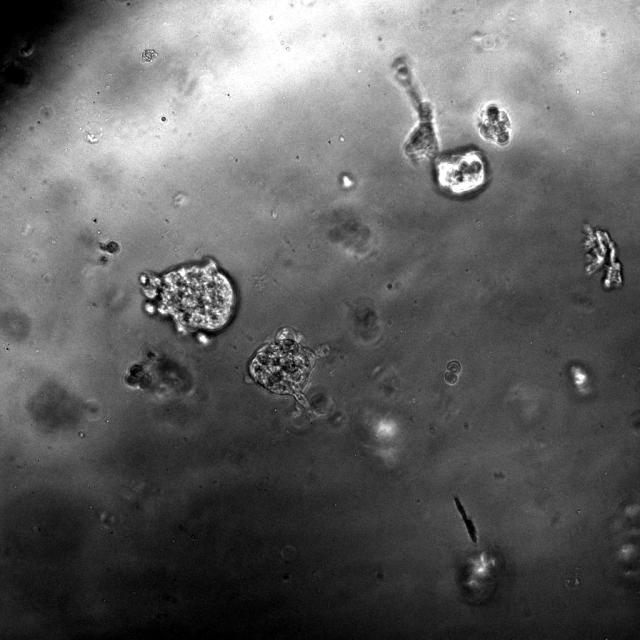organoid: (392, 56, 489, 198), (139, 257, 237, 343), (249, 327, 328, 410), (125, 349, 193, 398), (583, 224, 622, 290), (477, 103, 512, 146), (445, 360, 461, 385), (100, 240, 119, 254), (141, 49, 158, 62), (98, 255, 108, 264), (161, 116, 167, 122)
